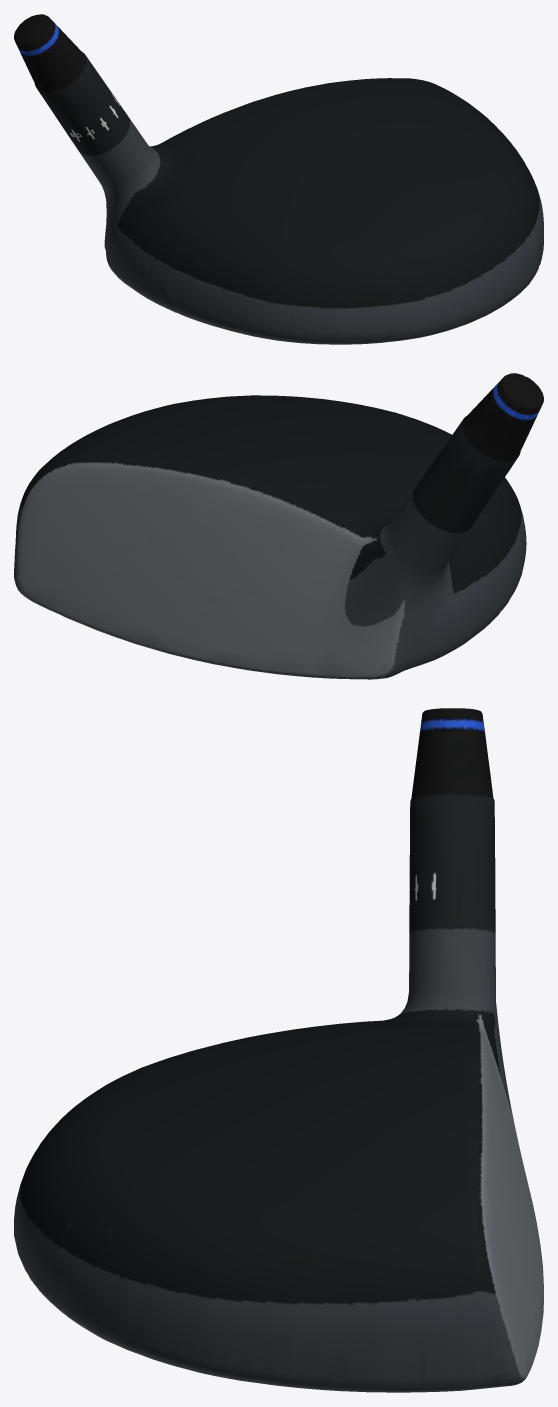
3 views of the same model, one above another, from view 1: azimuth 30°, elevation 25°; view 2: azimuth 150°, elevation 25°; view 3: azimuth 270°, elevation 25° (orthographic). The views are drawn at different scales.
Parts seen in each view (by area): view 1: head; view 2: head; view 3: head.
Boxes of the visible parts, bbox=[...] form: head: bbox=[14, 14, 543, 344]; head: bbox=[14, 373, 543, 679]; head: bbox=[14, 708, 543, 1392].
Bounding box in the file's own units: 0.1221 × 0.0736 × 0.0852.
1 material, 1 textured.
